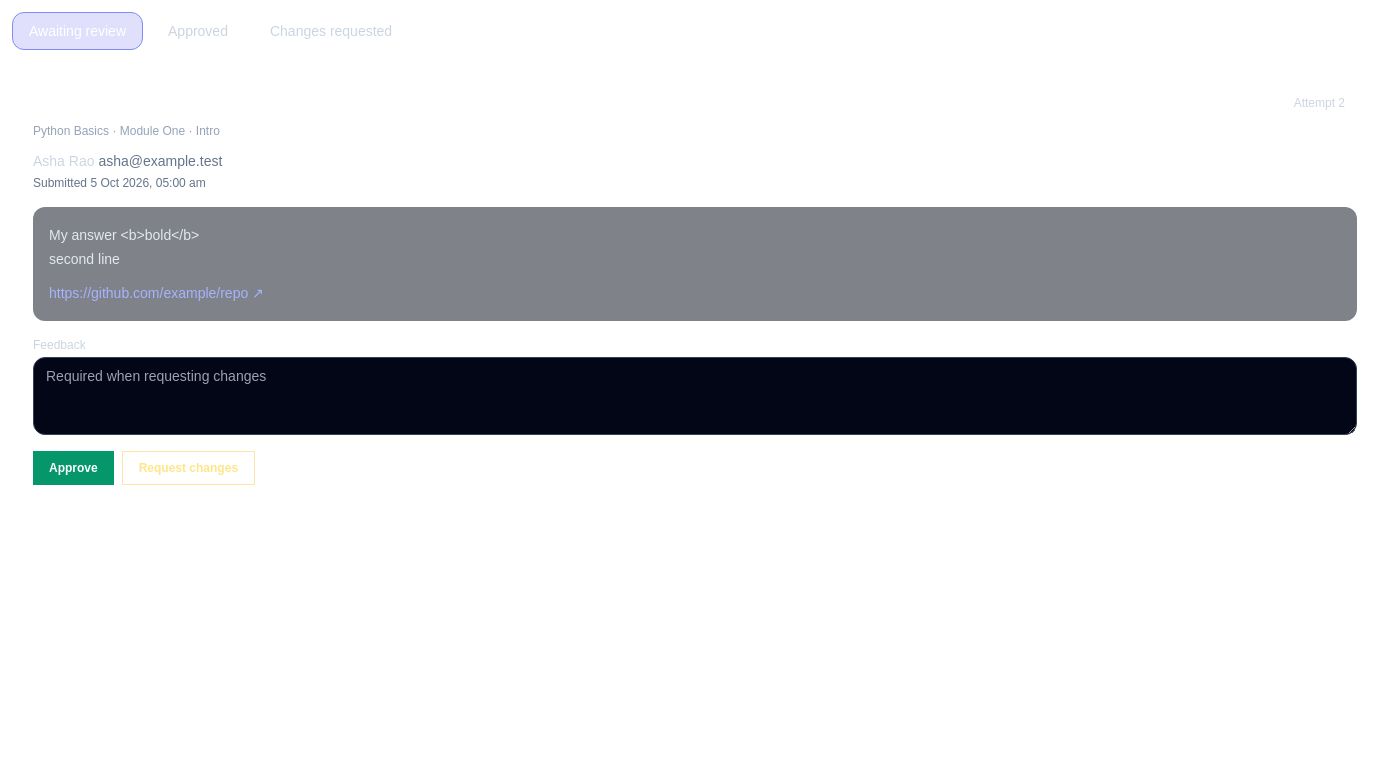
Test: ReviewQueue › approves a submission and reloads the queue
What coordinates should you click on to do the following:
click the button "approve "
I would click on:
 (73, 468)
Its box is top-left (33, 451), bottom-right (114, 485).
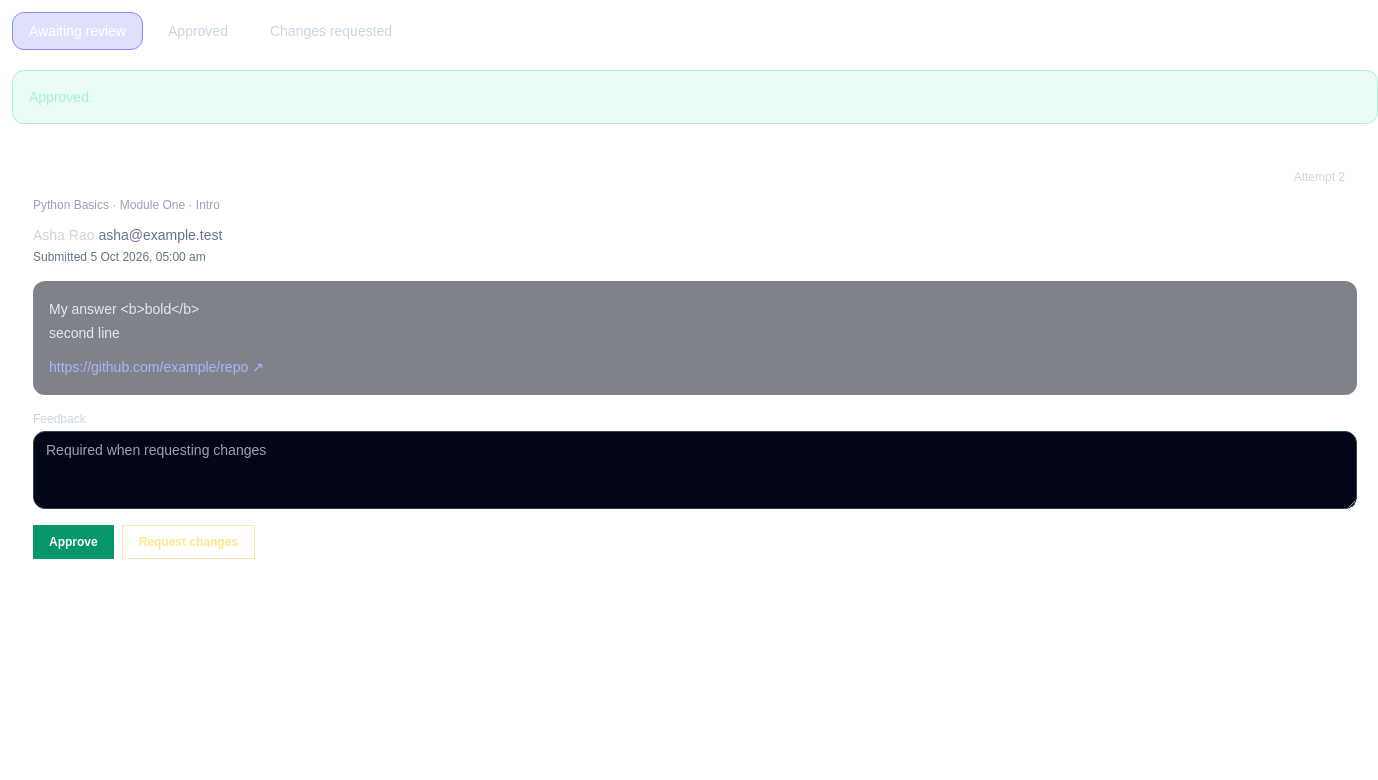
Now the text "Approved." is shown, box top-left (12, 70), bottom-right (1377, 124)
